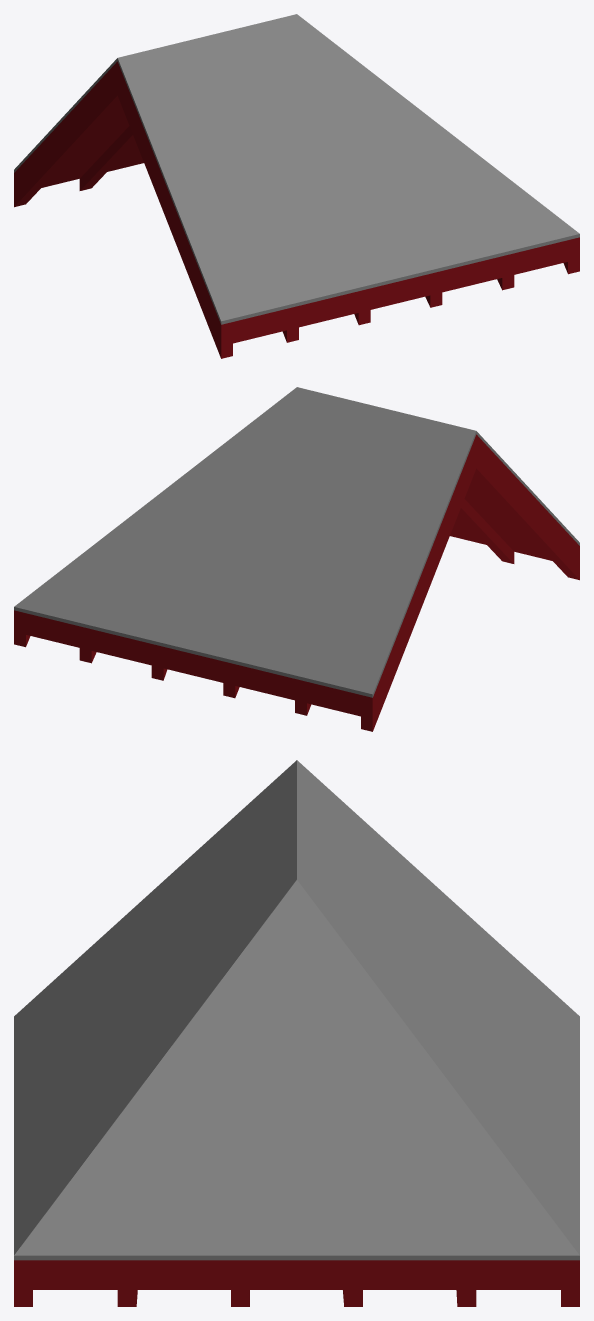
File: SM_MH_01_Slate_Roof_Top_End_01.fbx
The picture shows the model from 3 angles, top to bottom: view 1: azimuth 30°, elevation 25°; view 2: azimuth 150°, elevation 25°; view 3: azimuth 270°, elevation 25°; orthographic projection. The views are drawn at different scales.
Visible parts, largest first — view 1: SM_MH_01_Slate_Roof_Top_End_01_LOD0; view 2: SM_MH_01_Slate_Roof_Top_End_01_LOD0; view 3: SM_MH_01_Slate_Roof_Top_End_01_LOD0.
Part boxes in pixels (<box>): SM_MH_01_Slate_Roof_Top_End_01_LOD0: <box>14,14,579,358</box>; SM_MH_01_Slate_Roof_Top_End_01_LOD0: <box>14,387,579,731</box>; SM_MH_01_Slate_Roof_Top_End_01_LOD0: <box>14,760,579,1306</box>.
Size of what is drawn, in the model's own units: 300 by 180 by 300.
